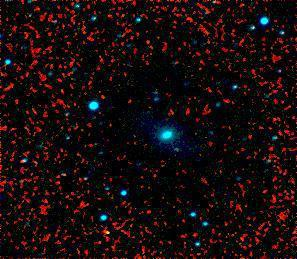star: (92, 217, 122, 247)
